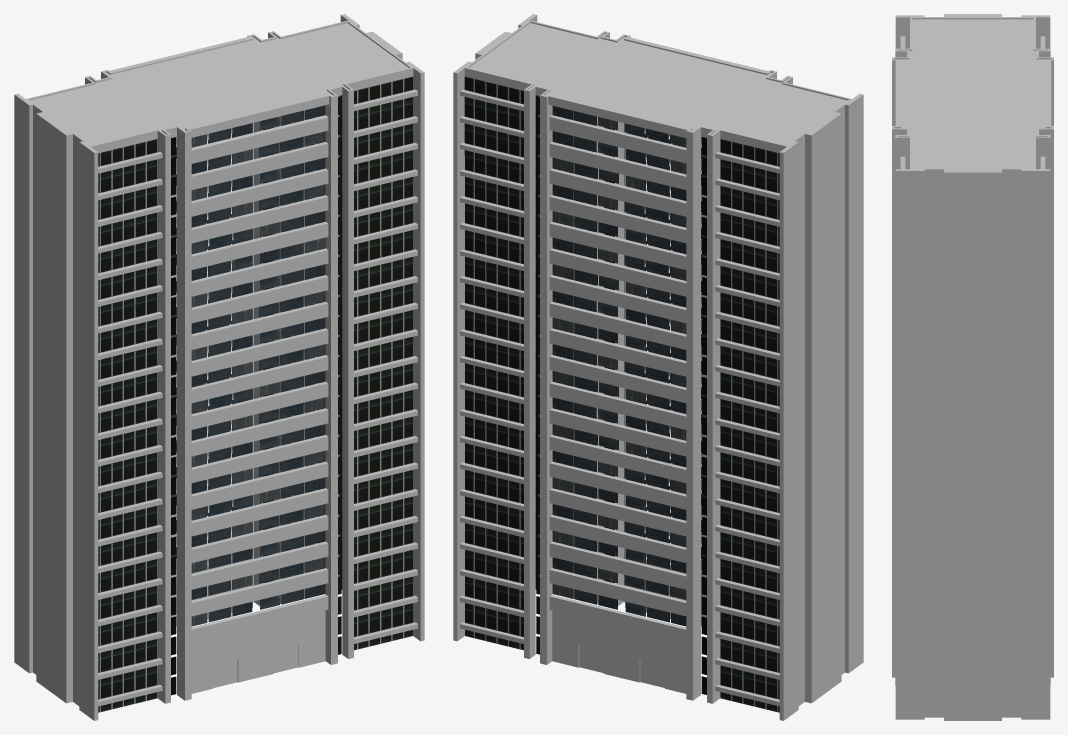
3 views of the same model, side by side, from view 1: azimuth 30°, elevation 25°; view 2: azimuth 150°, elevation 25°; view 3: azimuth 270°, elevation 25° (orthographic). The views are drawn at different scales.
Parts seen in each view (by area): view 1: BC-071; view 2: BC-071; view 3: BC-071.
Boxes of the visible parts, left/top/right/bottom form: BC-071: left=14, top=14, right=424, bottom=720; BC-071: left=453, top=14, right=863, bottom=720; BC-071: left=892, top=14, right=1053, bottom=720.
Size of what is drawn, in the model's own units: 39.63 by 63.95 by 17.1.
